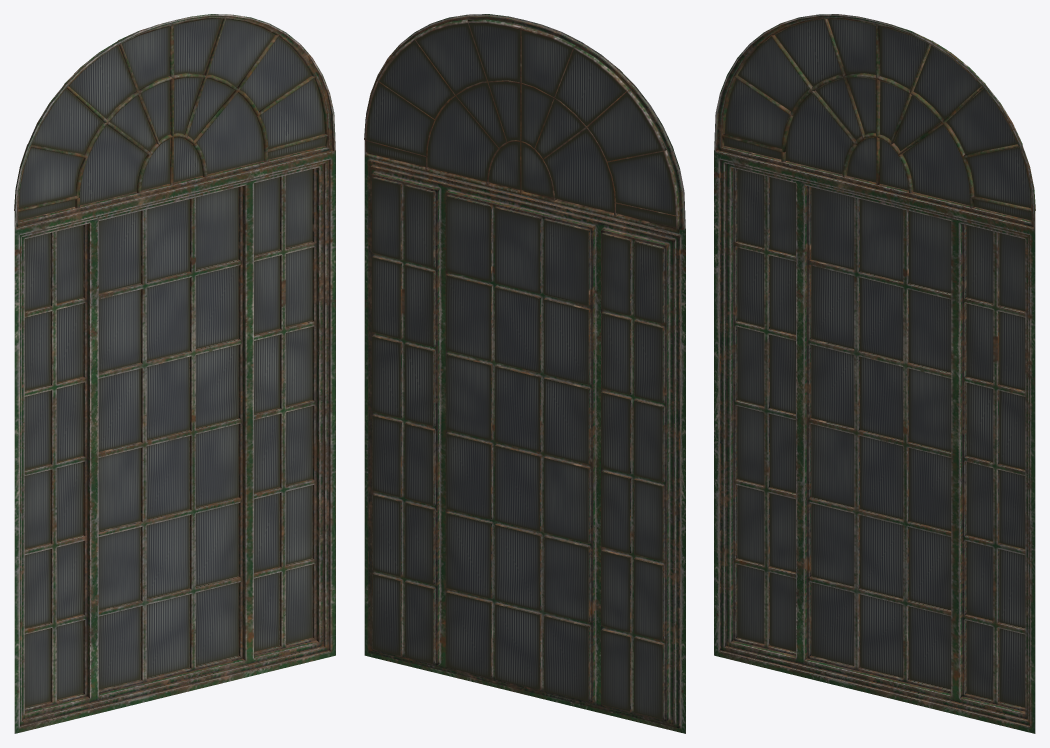
The picture shows the model from 3 angles, left to right: view 1: azimuth 30°, elevation 25°; view 2: azimuth 150°, elevation 25°; view 3: azimuth 330°, elevation 25°; orthographic projection.
Parts seen in each view (by area): view 1: Plane; view 2: Plane; view 3: Plane.
Boxes of the visible parts, x1,y1,x2,y2 form: Plane: (14, 14, 335, 733); Plane: (364, 14, 685, 733); Plane: (714, 14, 1035, 733).
Bounding box in the file's own units: 2 × 4.01 × 0.085.
Materials: 1 (1 with a texture image).
